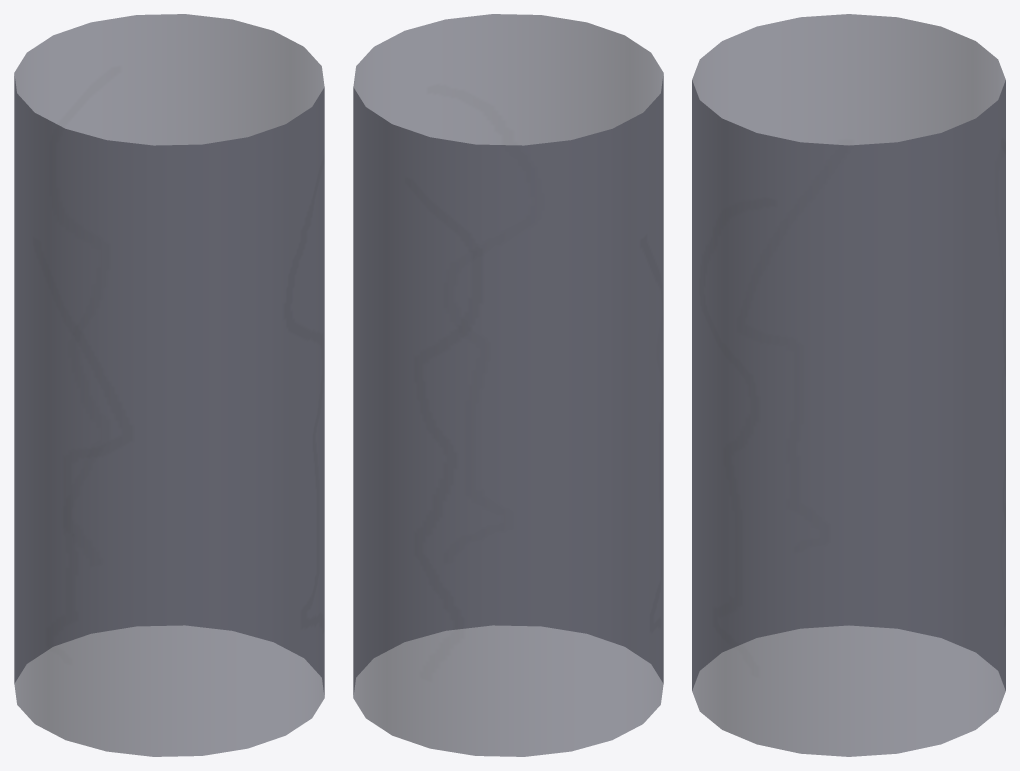
Rendered from water.fbx.
3 renders of one model, left to right at view 1: azimuth 30°, elevation 25°; view 2: azimuth 150°, elevation 25°; view 3: azimuth 270°, elevation 25°, orthographic.
Visible parts, largest first — view 1: pCylinder1; view 2: pCylinder1; view 3: pCylinder1.
Boxes of the visible parts, x1=… form: pCylinder1: x1=14, y1=14, x2=324, y2=756; pCylinder1: x1=353, y1=14, x2=663, y2=756; pCylinder1: x1=692, y1=14, x2=1005, y2=756.
Size of the model in its own units: 1.07 by 2.31 by 1.07.
1 material, 1 textured.
